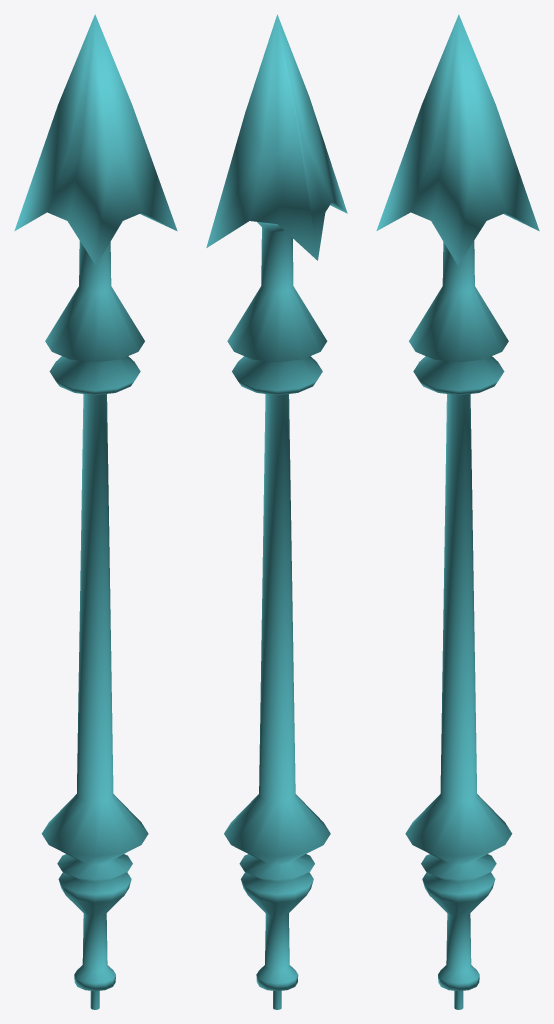
Rendered from lança .fbx.
3 views of the same model, side by side, from view 1: azimuth 90°, elevation 25°; view 2: azimuth 210°, elevation 25°; view 3: azimuth 270°, elevation 25° (orthographic).
Parts seen in each view (by area): view 1: Plane; view 2: Plane; view 3: Plane.
Boxes of the visible parts, x1,y1,x2,y2 form: Plane: [14, 14, 177, 1009]; Plane: [206, 14, 347, 1009]; Plane: [376, 14, 539, 1009].
Size of the model in its own units: 76.64 by 514 by 76.64.
